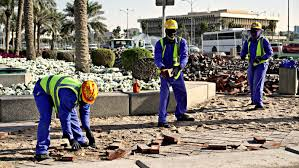Hard Hat: (80, 81, 98, 105), (161, 21, 179, 42), (250, 21, 262, 41)
Person: (33, 75, 98, 158), (152, 20, 192, 127), (241, 22, 273, 110)
Vest: (40, 76, 86, 106), (161, 30, 183, 79), (249, 29, 267, 65)
